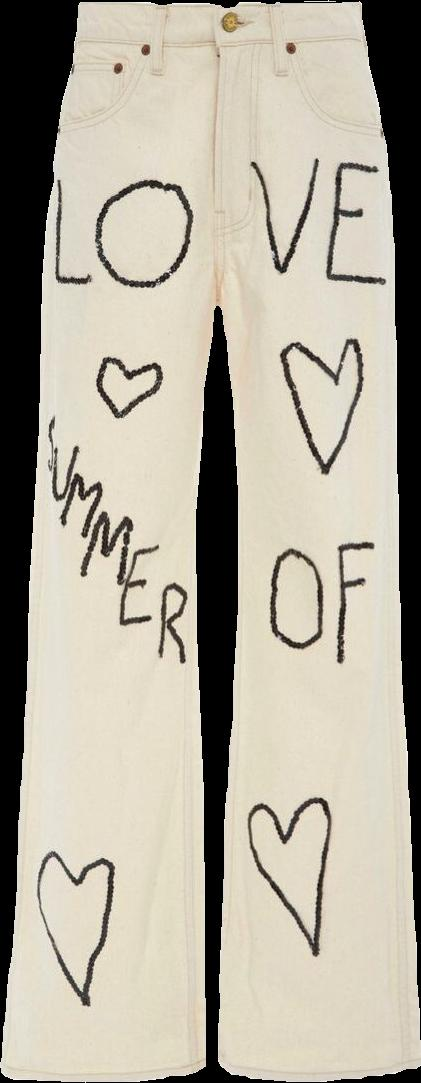Hemline: (217, 1059, 420, 1082), (2, 1059, 201, 1082)
Pantleg: (1, 2, 232, 1080), (214, 2, 420, 1080)
Waistline: (72, 31, 364, 59), (79, 0, 366, 14)
